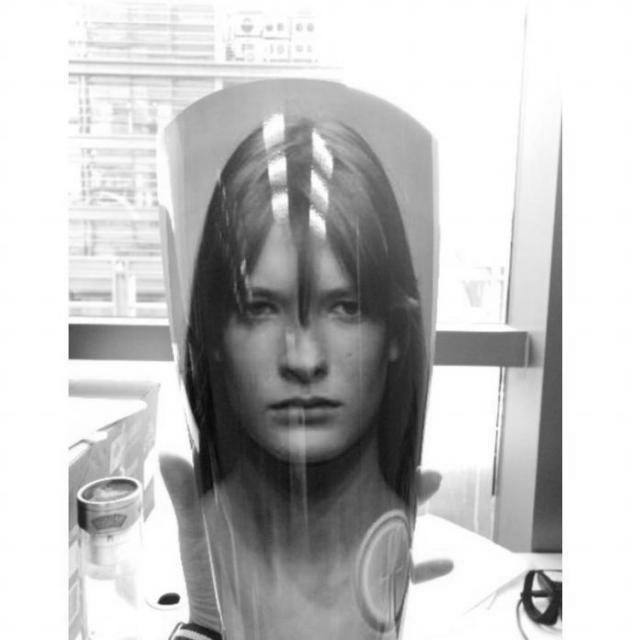fake: (156, 73, 452, 640)
